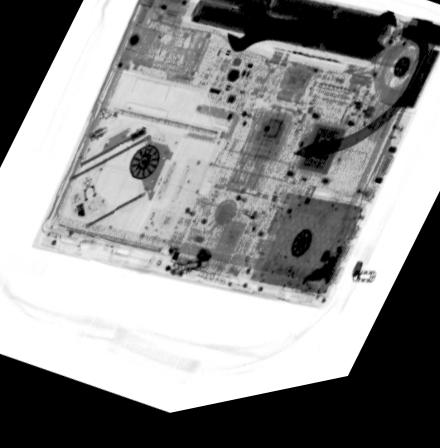Wrench: (228, 9, 399, 72)
